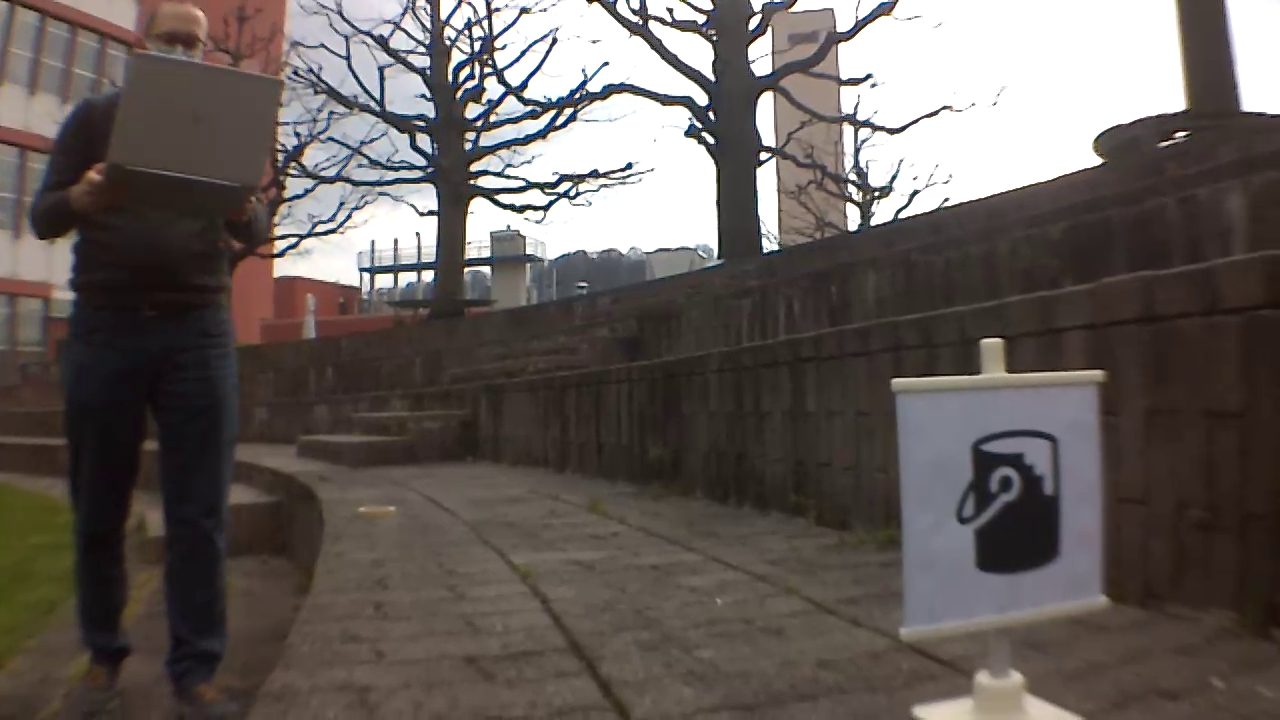bucket: (956, 426, 1063, 579)
